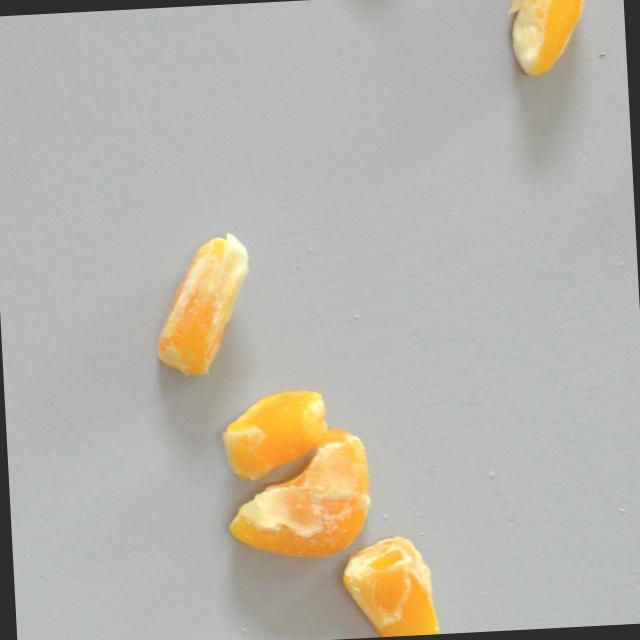dañado: (218, 423, 378, 566), (142, 232, 264, 384), (211, 382, 340, 487), (336, 529, 447, 639), (505, 0, 591, 81)
